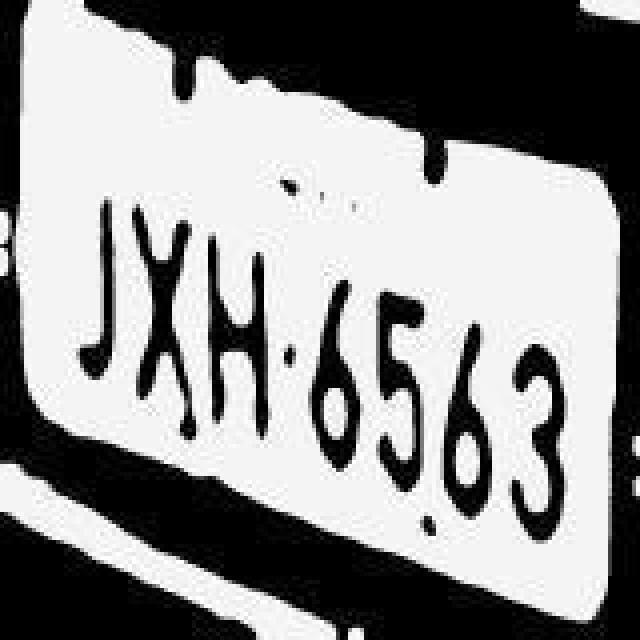3: (508, 296, 580, 560)
5: (372, 258, 436, 510)
6: (308, 254, 372, 514), (440, 274, 504, 526)
H: (204, 232, 284, 472)
J: (58, 150, 134, 418)
X: (132, 200, 204, 424)
